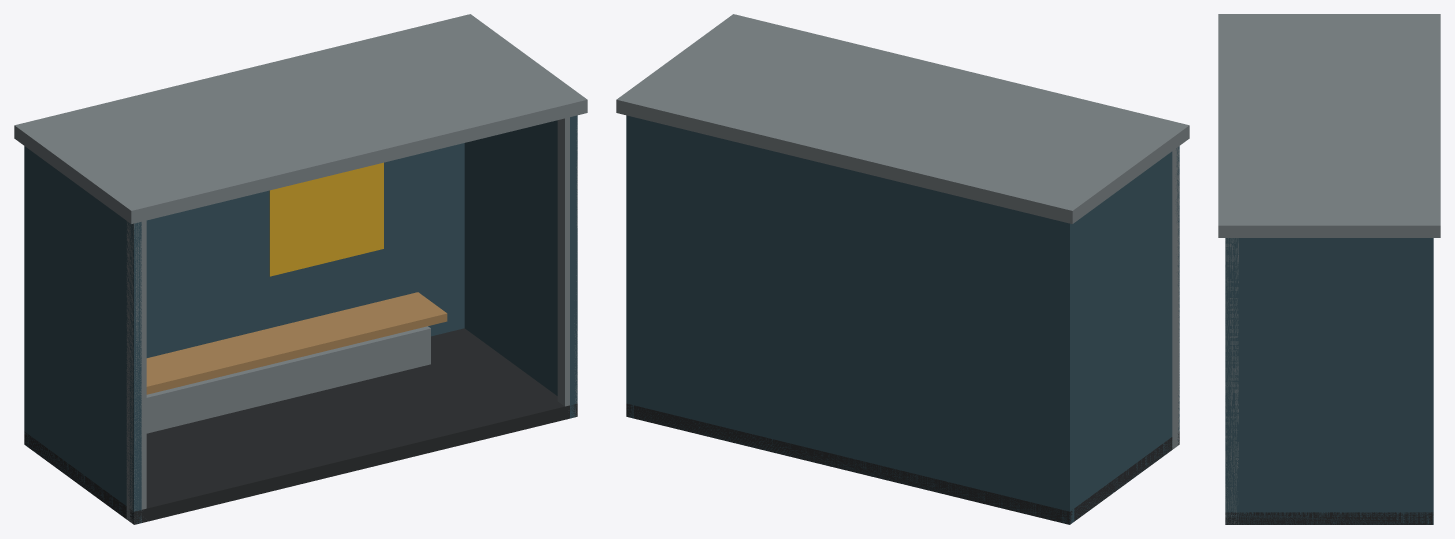
Rendered from bus_shelter_enclosed.glb.
The picture shows the model from 3 angles, left to right: view 1: azimuth 30°, elevation 25°; view 2: azimuth 150°, elevation 25°; view 3: azimuth 270°, elevation 25°; orthographic projection. The views are drawn at different scales.
Parts seen in each view (by area): view 1: Shell, Dressing; view 2: Shell; view 3: Shell.
Boxes of the visible parts, left/top/right/bottom form: Shell: left=14, top=14, right=587, bottom=524; Dressing: left=269, top=162, right=383, bottom=276; Shell: left=616, top=14, right=1189, bottom=524; Shell: left=1218, top=14, right=1440, bottom=524.
Size of the model in its own units: 3.6 by 2.4 by 1.6.
